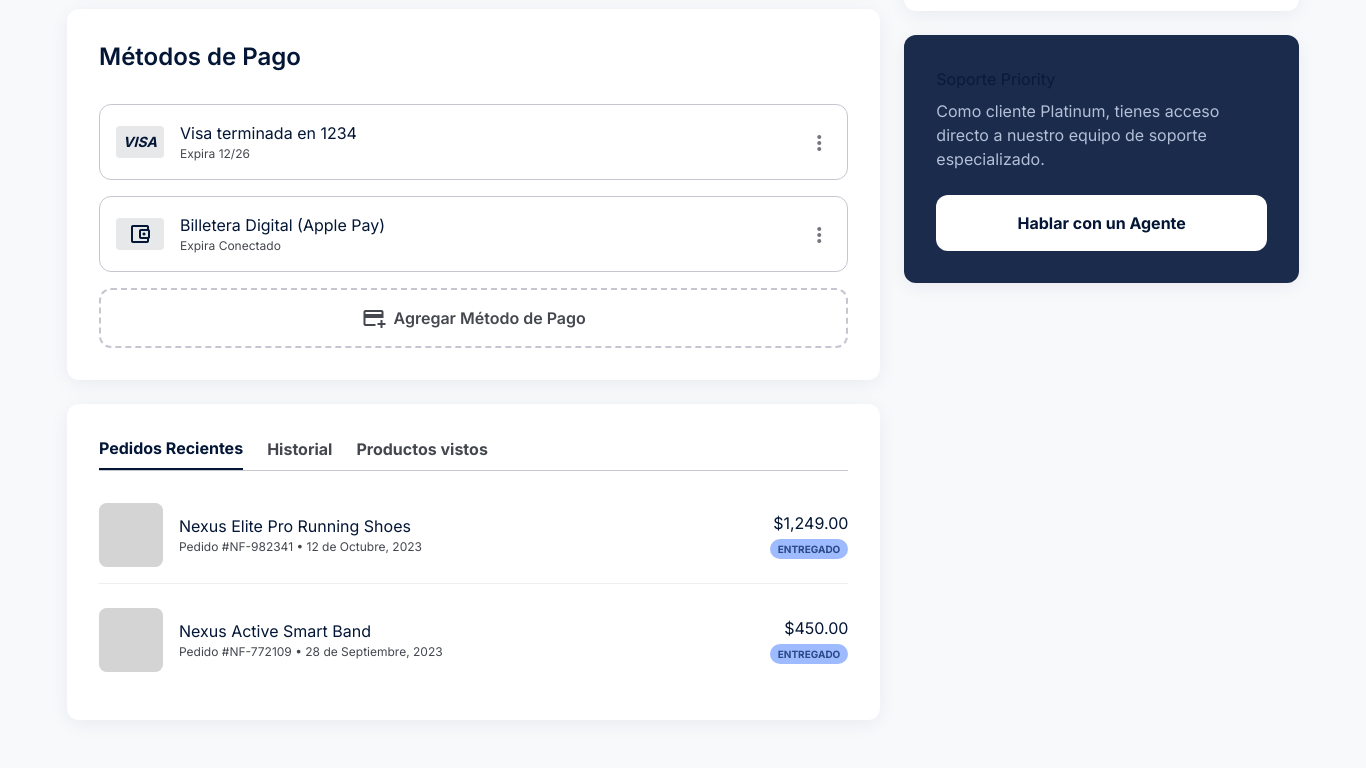
Scenario: ProfilePage › switches active tab on click
(page scrolled)
What coordinates should you click on to do the following:
click the button "Historial"
I would click on:
 (300, 453)
Its box is [267, 436, 332, 470].
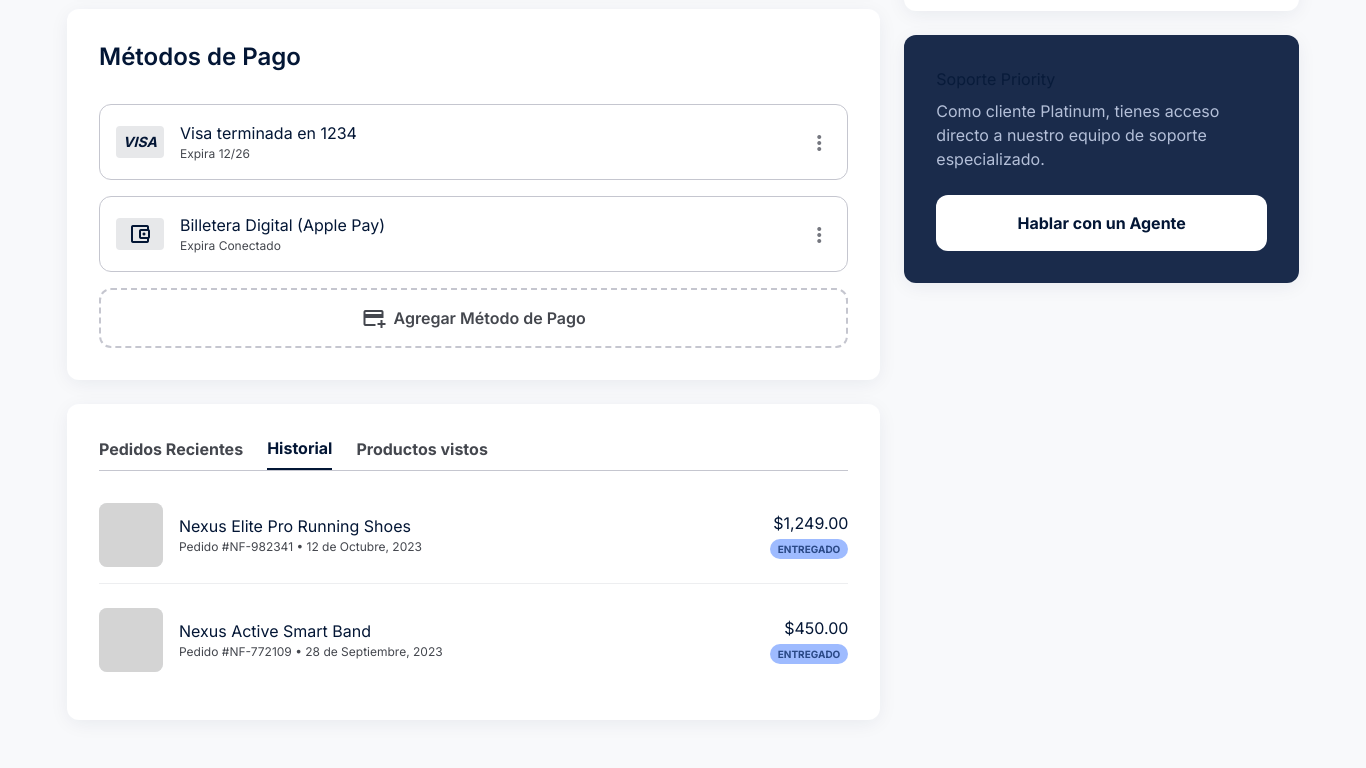
Check: the button "Historial" has class "border-b-2", box [267, 436, 332, 470]
